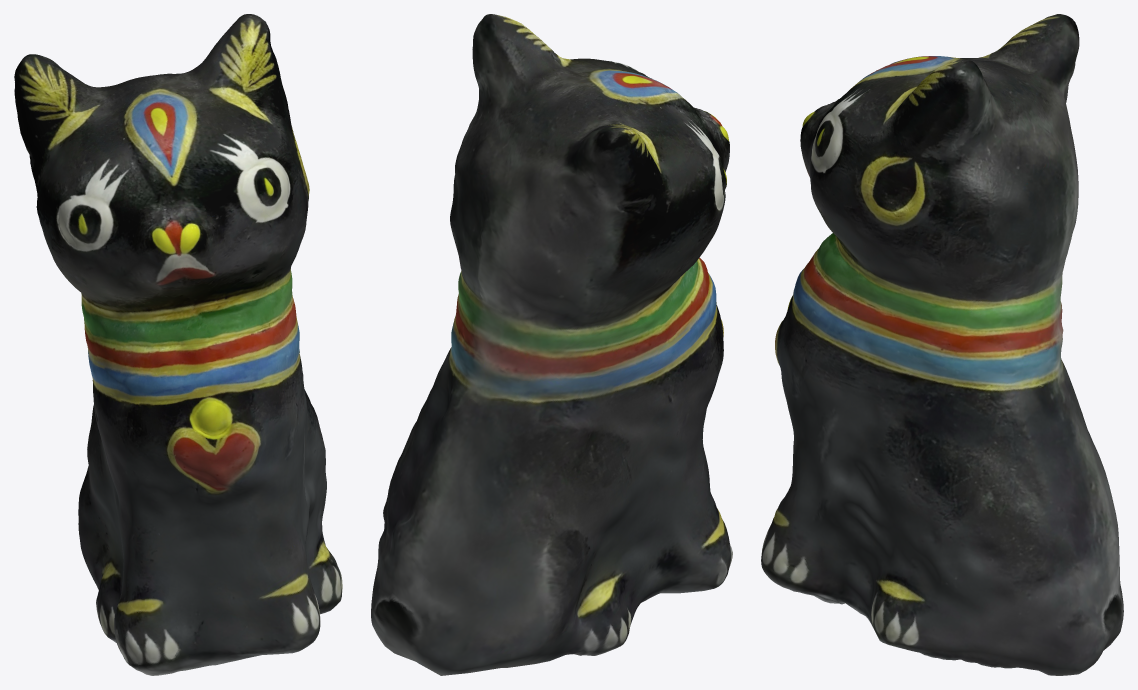
3 views of the same model, side by side, from view 1: azimuth 30°, elevation 25°; view 2: azimuth 150°, elevation 25°; view 3: azimuth 270°, elevation 25° (orthographic).
Bounding box in the file's own units: 0.4301 × 0.8776 × 0.4817.
1 material, 1 textured.
